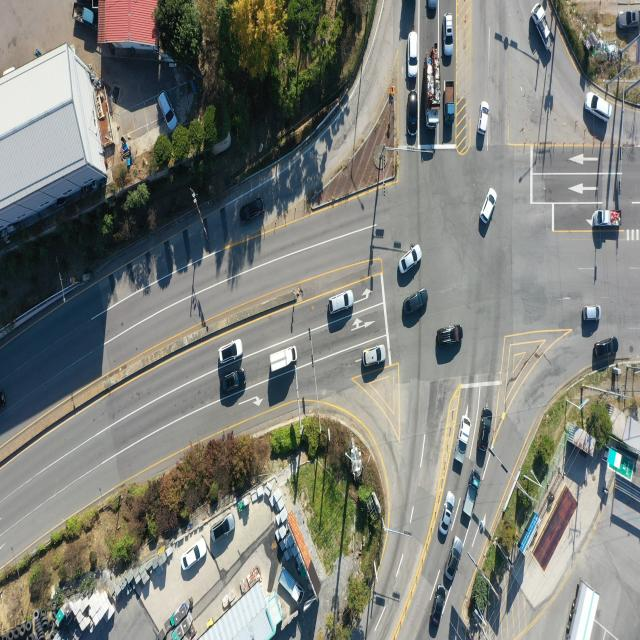car: (178, 537, 206, 578), (445, 537, 464, 582), (585, 92, 611, 120), (160, 91, 178, 131), (404, 290, 429, 318), (398, 246, 421, 276), (327, 291, 353, 317), (441, 492, 457, 534), (218, 341, 243, 367), (240, 200, 264, 226), (212, 514, 234, 542), (481, 189, 497, 225), (480, 411, 494, 452), (431, 586, 445, 626), (594, 338, 619, 360), (362, 345, 386, 367), (220, 371, 244, 393), (409, 32, 420, 80), (408, 90, 419, 136), (436, 328, 461, 348), (618, 9, 640, 28), (445, 16, 455, 56), (480, 102, 490, 134), (584, 306, 602, 322), (427, 0, 438, 15)
medium_truck: (564, 584, 600, 640), (426, 58, 438, 130)
small_truck: (534, 0, 556, 49), (276, 570, 306, 603), (463, 469, 480, 519), (270, 346, 298, 376), (455, 413, 471, 463), (72, 2, 96, 29), (593, 209, 621, 229), (445, 81, 457, 125)
